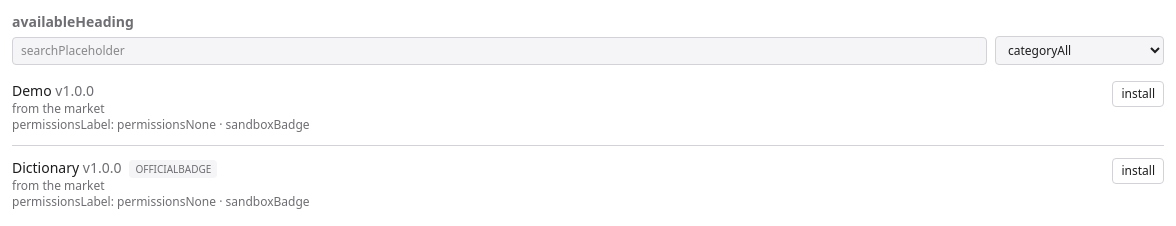
Test: PluginMarketplace › filters by category
Select "categories.language" in the dropdown at coordinates (1080, 50), box [995,36,1164,65]
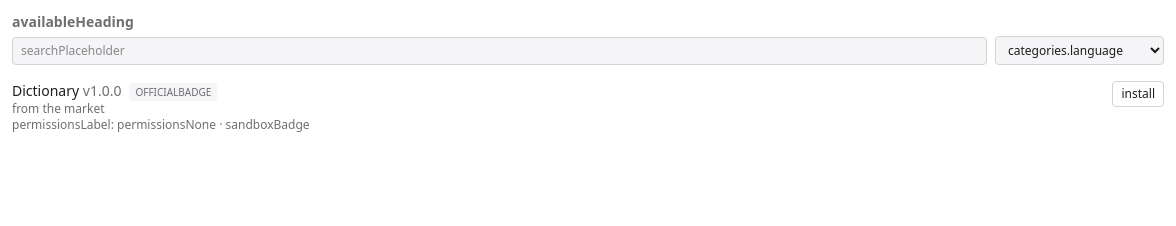
Expected: the text "Dictionary" is shown, [12,81,79,100]
Result: the button "Demo" is gone
